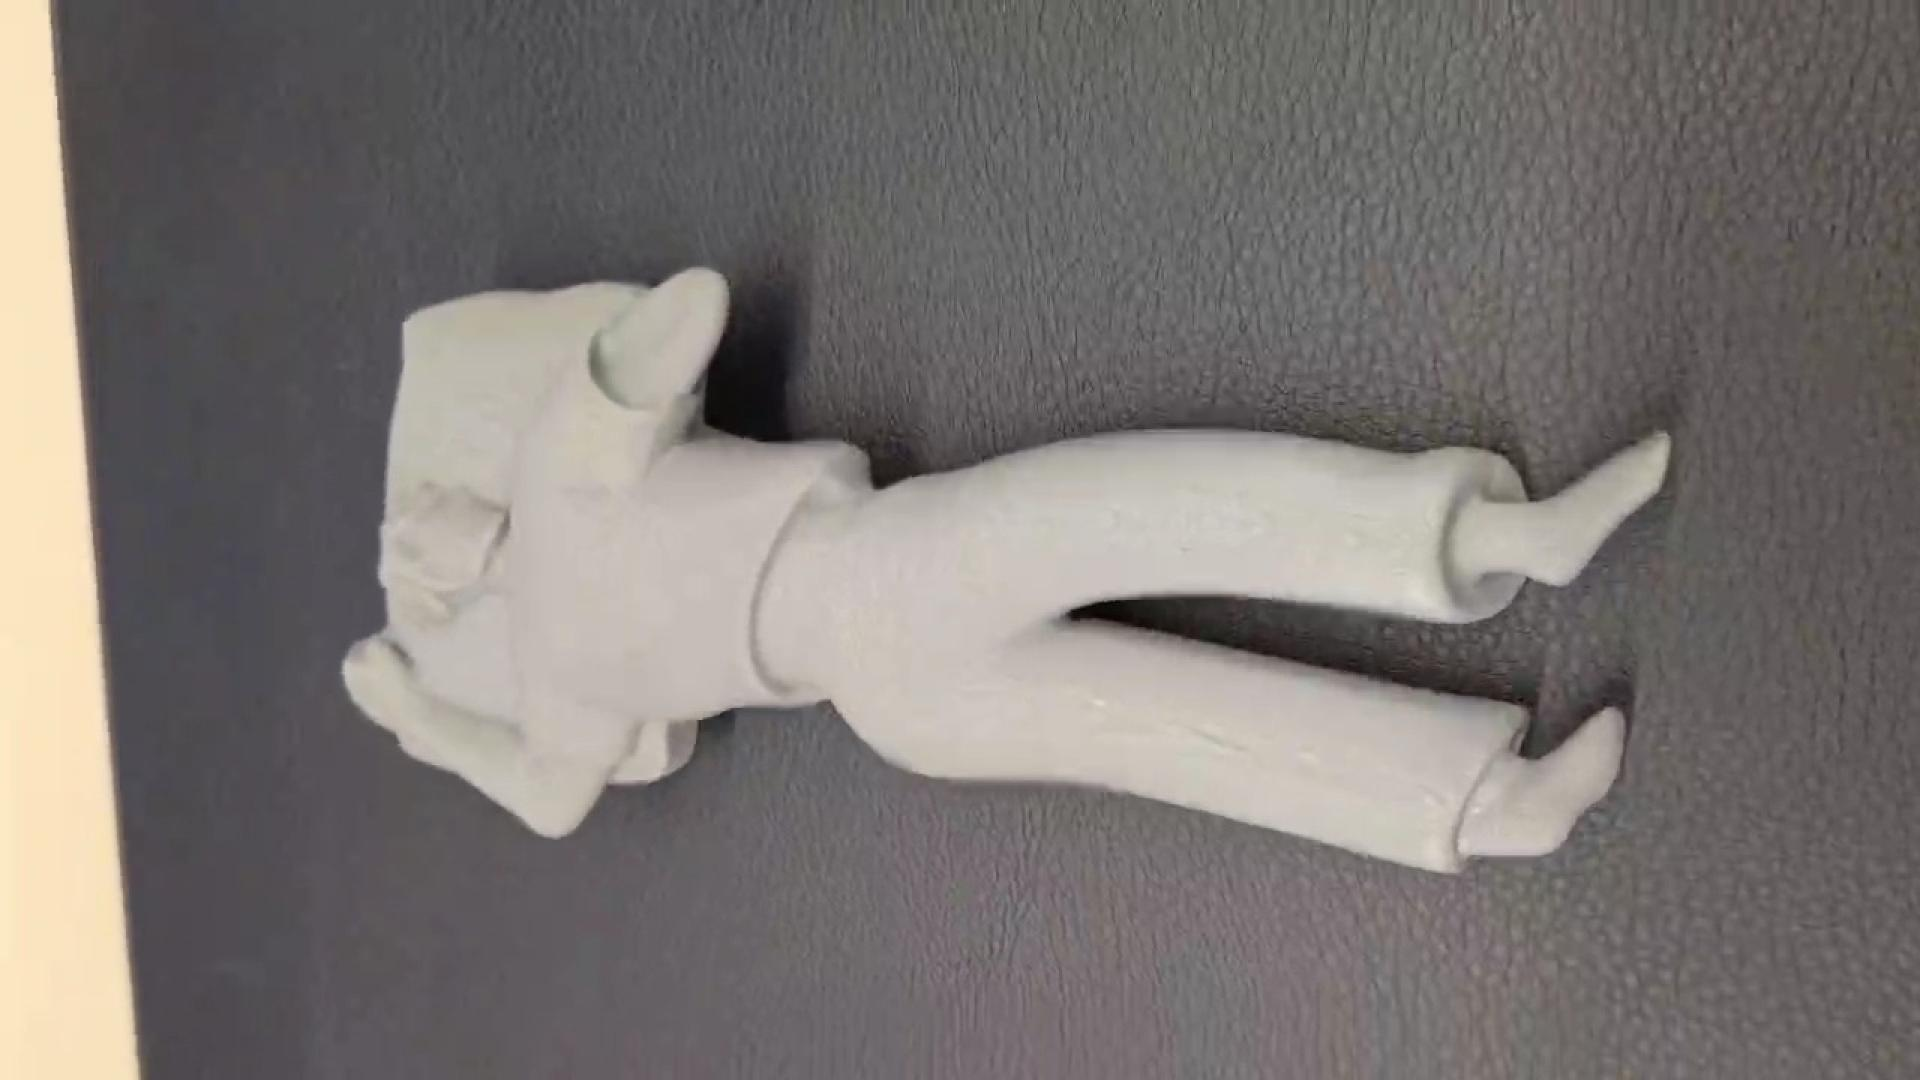Bad-style: (322, 261, 1679, 878)
